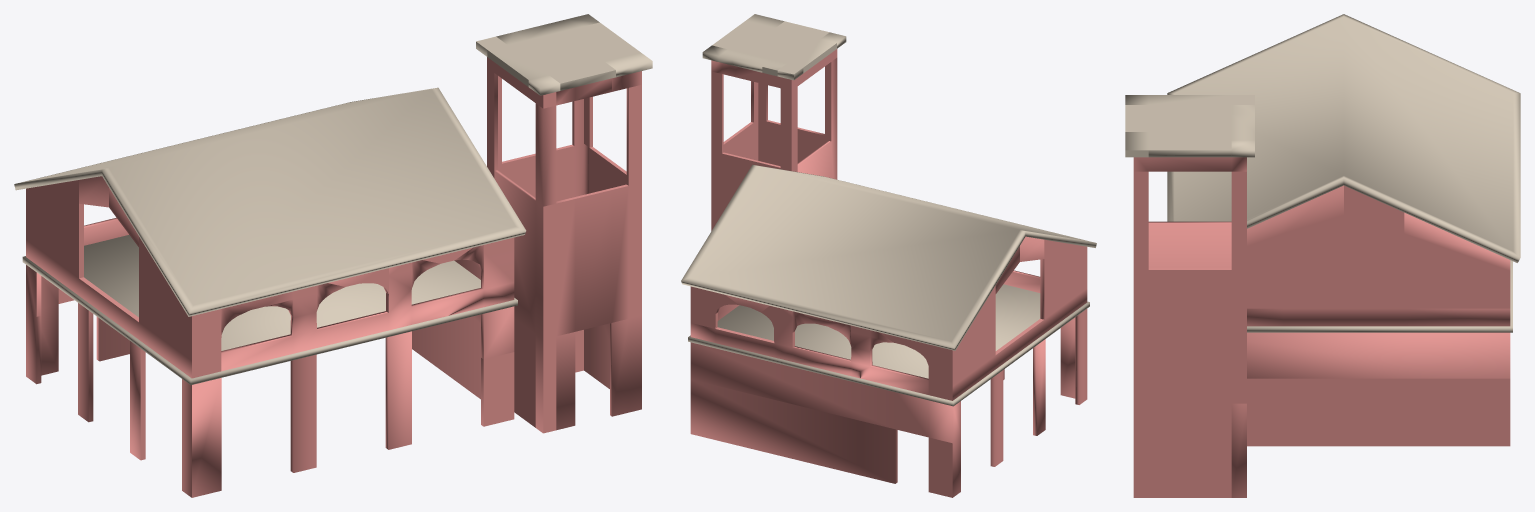
Rendered from Fire.obj.
3 views of the same model, side by side, from view 1: azimuth 30°, elevation 25°; view 2: azimuth 150°, elevation 25°; view 3: azimuth 270°, elevation 25° (orthographic). The views are drawn at different scales.
Visible parts, largest first — view 1: Fire; view 2: Fire; view 3: Fire.
Part boxes in pixels (x1,y1,x2,y2): Fire: [14, 14, 652, 497]; Fire: [681, 14, 1096, 497]; Fire: [1125, 14, 1520, 497].
Size of the model in its own units: 91.04 by 68.79 by 70.12.
